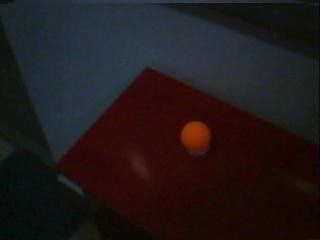oball: (179, 121, 211, 151)
